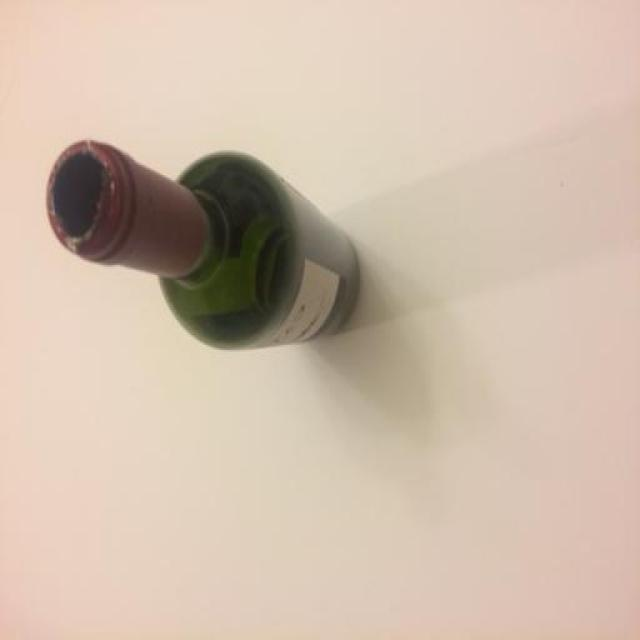glass: (45, 131, 360, 353)
